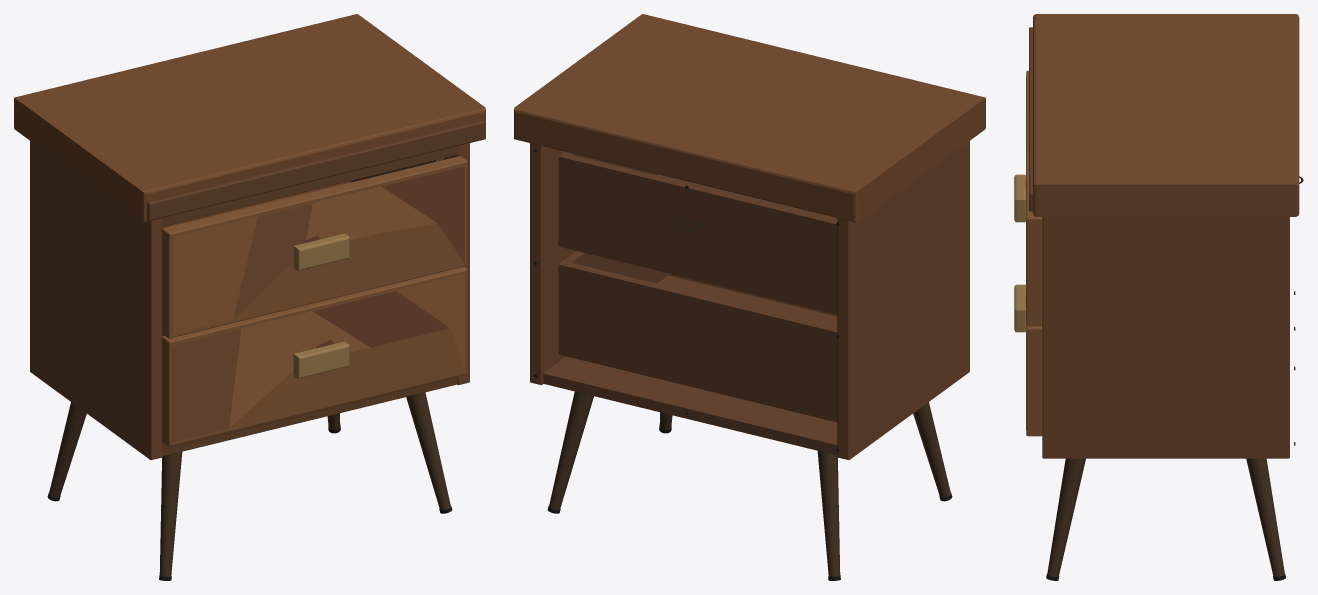
The model's file is img2threejs-web-9fbd0ca.glb.
3 renders of one model, left to right at view 1: azimuth 30°, elevation 25°; view 2: azimuth 150°, elevation 25°; view 3: azimuth 270°, elevation 25°, orthographic.
Visible parts, largest first — view 1: top_slab, carcass_left_side, drawer_1, drawer_2, drawer_1_front, drawer_2_front, top_front_edge_band, carcass_upper_front_rail, carcass_bottom_panel, front_left_leg, front_right_leg, drawer_1_pull_handle (+4 smaller); view 2: top_slab, carcass_left_side, drawer_2_rear, drawer_1_rear, carcass_bottom_panel, carcass_right_side, drawer_2_bottom, drawer_1_bottom, rear_left_leg, rear_right_leg, drawer_2_right_side, front_left_leg (+1 smaller); view 3: carcass_right_side, top_slab, drawer_1_front, rear_right_leg, front_right_leg, drawer_2_front, top_front_edge_band, drawer_1_pull_handle, drawer_2_pull_handle.
Boxes of the visible parts, x1=… form: top_slab: x1=14, y1=14, x2=485, y2=222; carcass_left_side: x1=30, y1=141, x2=162, y2=459; drawer_1: x1=172, y1=166, x2=464, y2=333; drawer_2: x1=172, y1=274, x2=464, y2=441; drawer_1_front: x1=161, y1=156, x2=467, y2=338; drawer_2_front: x1=161, y1=266, x2=467, y2=446; top_front_edge_band: x1=147, y1=121, x2=484, y2=220; carcass_upper_front_rail: x1=162, y1=146, x2=459, y2=226; carcass_bottom_panel: x1=162, y1=378, x2=457, y2=456; front_left_leg: x1=159, y1=452, x2=182, y2=576; front_right_leg: x1=406, y1=392, x2=450, y2=509; drawer_1_pull_handle: x1=293, y1=233, x2=349, y2=270; top_slab: x1=514, y1=14, x2=985, y2=222; carcass_left_side: x1=837, y1=141, x2=969, y2=459; drawer_2_rear: x1=559, y1=261, x2=837, y2=421; drawer_1_rear: x1=558, y1=155, x2=837, y2=312; carcass_bottom_panel: x1=543, y1=356, x2=837, y2=455; carcass_right_side: x1=530, y1=143, x2=575, y2=385; drawer_2_bottom: x1=558, y1=275, x2=837, y2=420; drawer_1_bottom: x1=559, y1=174, x2=837, y2=313; rear_left_leg: x1=817, y1=451, x2=840, y2=576; rear_right_leg: x1=549, y1=391, x2=593, y2=509; drawer_2_right_side: x1=558, y1=251, x2=668, y2=356; front_left_leg: x1=913, y1=402, x2=950, y2=497; carcass_right_side: x1=1042, y1=217, x2=1289, y2=458; top_slab: x1=1033, y1=14, x2=1299, y2=216; drawer_1_front: x1=1026, y1=70, x2=1042, y2=326; rear_right_leg: x1=1246, y1=458, x2=1284, y2=576; front_right_leg: x1=1047, y1=458, x2=1085, y2=576; drawer_2_front: x1=1026, y1=325, x2=1042, y2=436; top_front_edge_band: x1=1029, y1=27, x2=1032, y2=211; drawer_1_pull_handle: x1=1014, y1=174, x2=1025, y2=222; drawer_2_pull_handle: x1=1014, y1=284, x2=1025, y2=332.
Size of the model in its own units: 0.822 by 0.9228 by 0.588.
